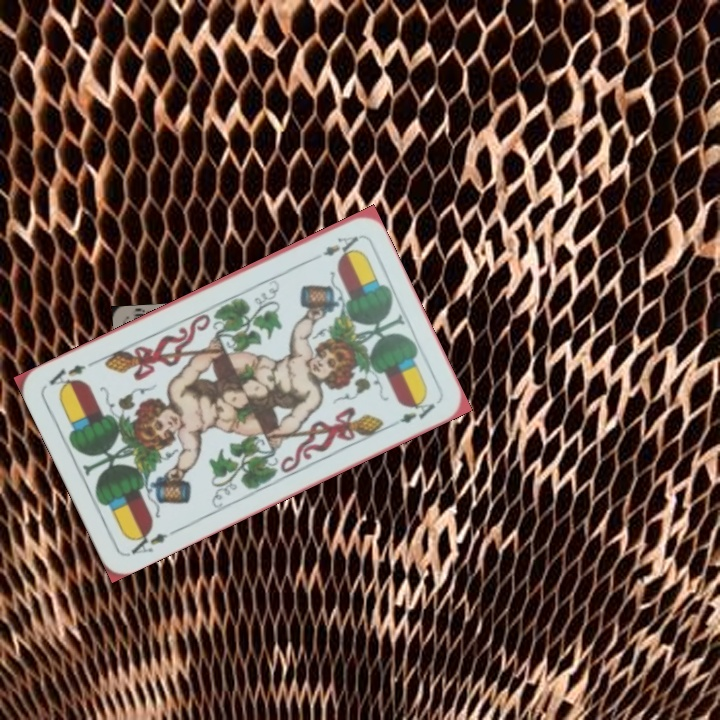EA: (124, 525, 180, 557), (319, 231, 362, 259)
